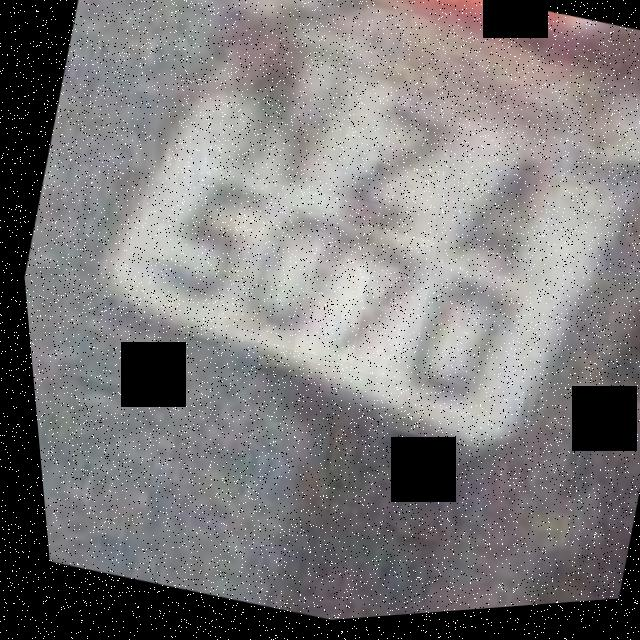0: (197, 172, 389, 375), (359, 239, 544, 439)
5: (118, 150, 290, 329)
7: (275, 214, 442, 395)
A: (414, 127, 571, 298)
N: (178, 29, 361, 218)
Z: (300, 73, 470, 247)
